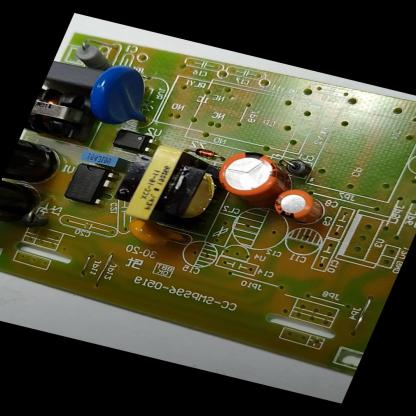Cap1: (209, 144, 292, 204)
Cap2: (269, 184, 321, 222)
Cap3: (2, 136, 68, 190)
Cap4: (0, 179, 48, 233)
MOSFET: (61, 160, 119, 207)
Mov: (79, 59, 167, 132)
Resistor: (70, 39, 115, 71)
Transformer: (107, 137, 235, 238), (24, 86, 109, 146)
